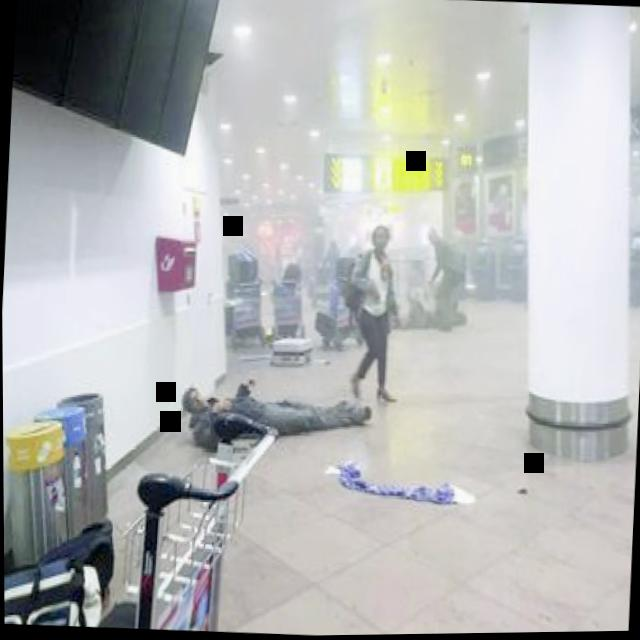Fall-Detected: (149, 351, 389, 471)
